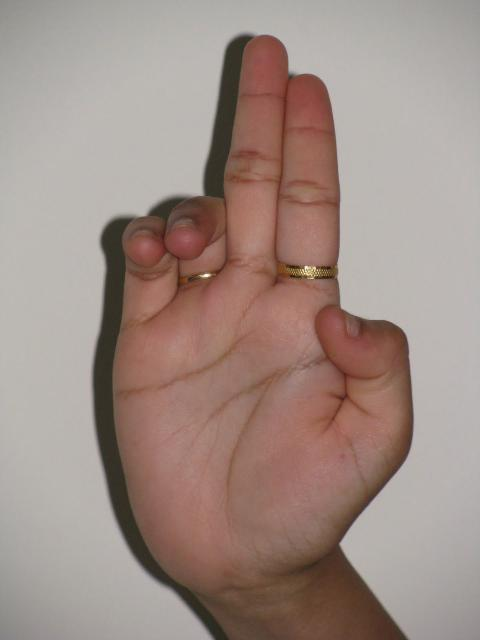ardhpataka: (80, 36, 424, 564)
